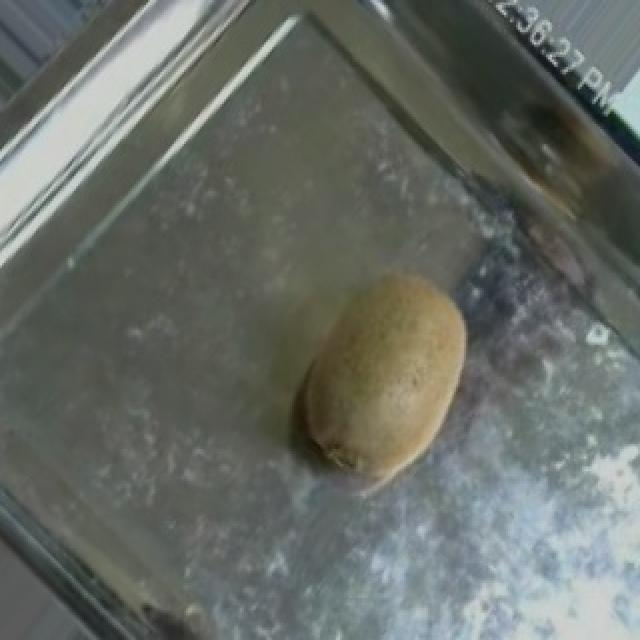Fruit: (272, 236, 496, 501)
